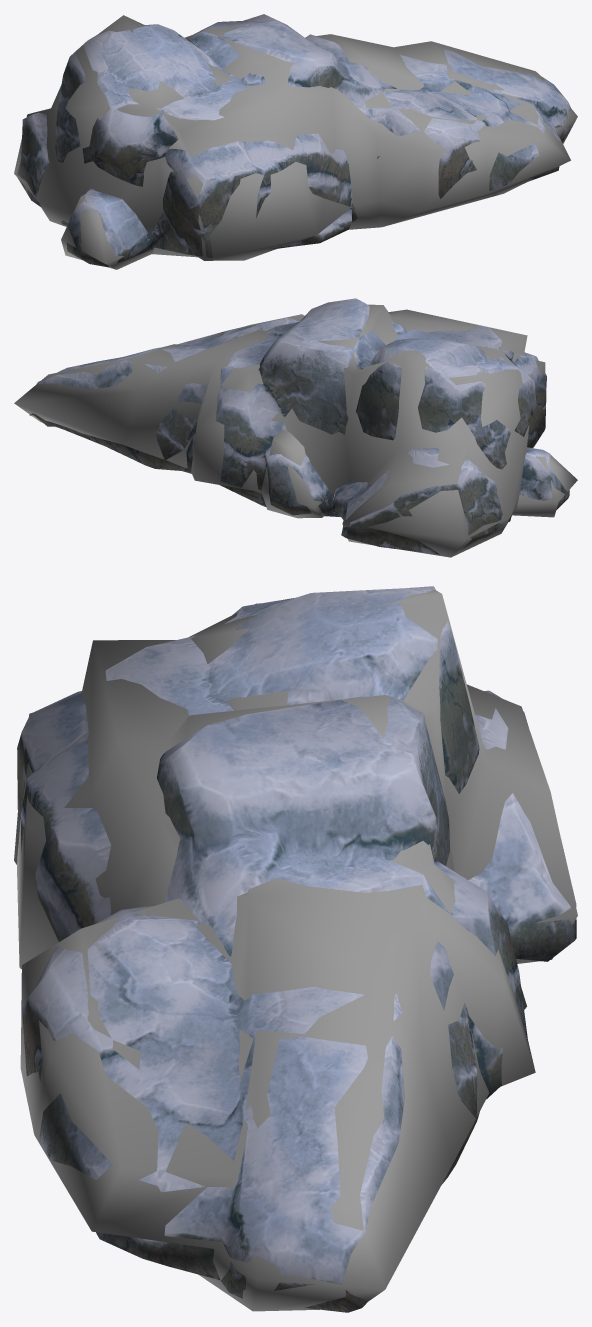
The model's file is Scene_Rock_XueShanShi_2.FBX.
3 renders of one model, top to bottom at view 1: azimuth 30°, elevation 25°; view 2: azimuth 150°, elevation 25°; view 3: azimuth 270°, elevation 25°, orthographic. The views are drawn at different scales.
Visible parts, largest first — view 1: Scene_Rock_XueShanShi_2, Scene_Rock_XueShanShi_2_Xzm; view 2: Scene_Rock_XueShanShi_2, Scene_Rock_XueShanShi_2_Xzm; view 3: Scene_Rock_XueShanShi_2, Scene_Rock_XueShanShi_2_Xzm.
Boxes of the visible parts, x1,y1,x2,y2 form: Scene_Rock_XueShanShi_2: (17,14,571,266); Scene_Rock_XueShanShi_2_Xzm: (14,15,577,269); Scene_Rock_XueShanShi_2: (29,298,569,554); Scene_Rock_XueShanShi_2_Xzm: (14,304,577,557); Scene_Rock_XueShanShi_2: (14,586,576,1312); Scene_Rock_XueShanShi_2_Xzm: (17,590,577,1311).
Bounding box in the file's own units: 1128 × 440 × 552.
